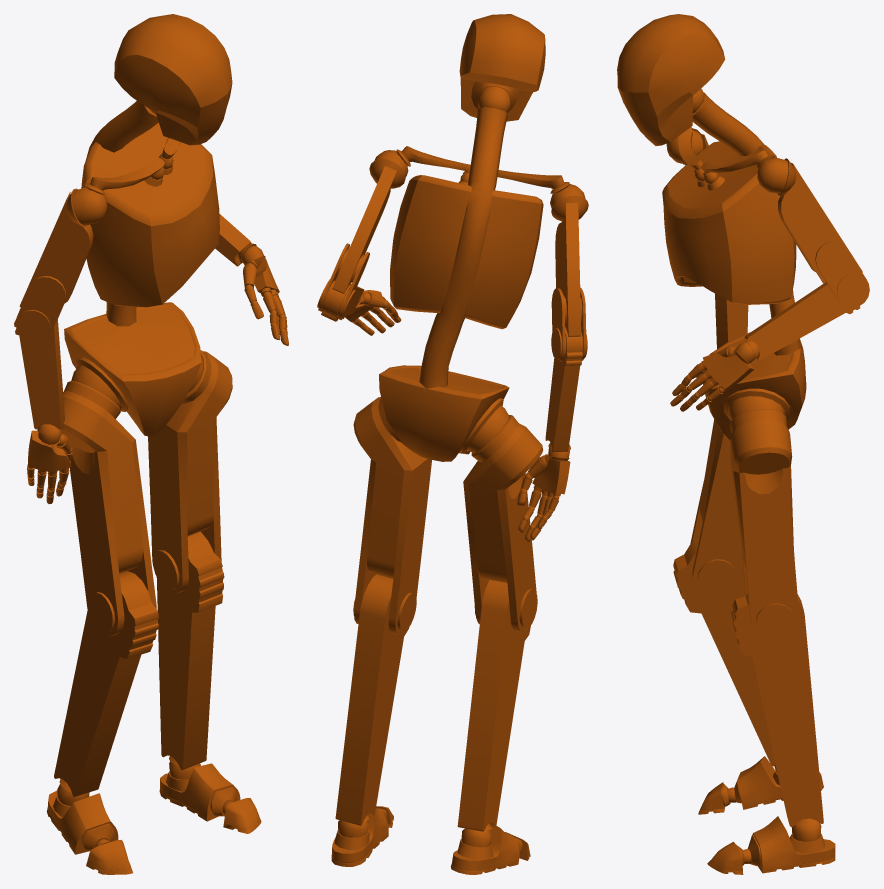
The model's file is RobotAnimacja_000010.obj.
The picture shows the model from 3 angles, left to right: view 1: azimuth 30°, elevation 25°; view 2: azimuth 150°, elevation 25°; view 3: azimuth 270°, elevation 25°; orthographic projection. The views are drawn at different scales.
Parts seen in each view (by area): view 1: free3dmodel.001; view 2: free3dmodel.001; view 3: free3dmodel.001.
Part boxes in pixels (x1,y1,x2,y2): free3dmodel.001: [14, 14, 288, 874]; free3dmodel.001: [317, 14, 588, 874]; free3dmodel.001: [617, 14, 869, 874].
Bounding box in the file's own units: 1.87 × 5.94 × 1.69.
